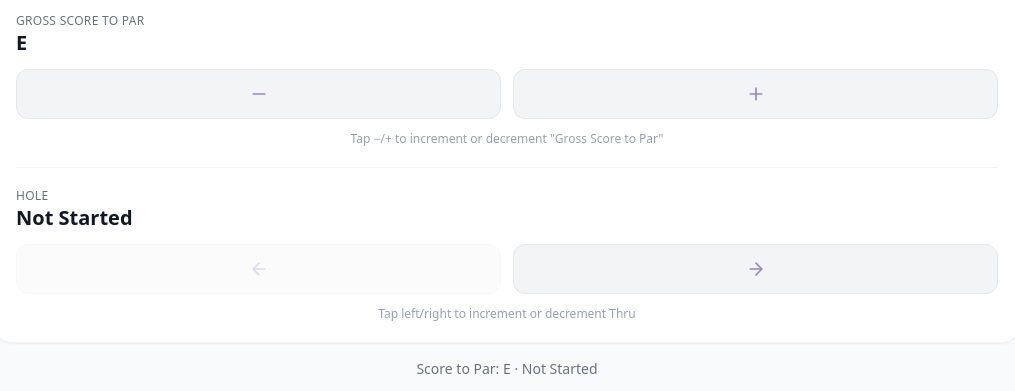
QuickScore › decrements score-to-par on - tap
The width and height of the screenshot is (1015, 391).
What coordinates should you click on to do the following:
click the 1st button
I would click on:
 (258, 94)
Its box is [16,69,501,119].
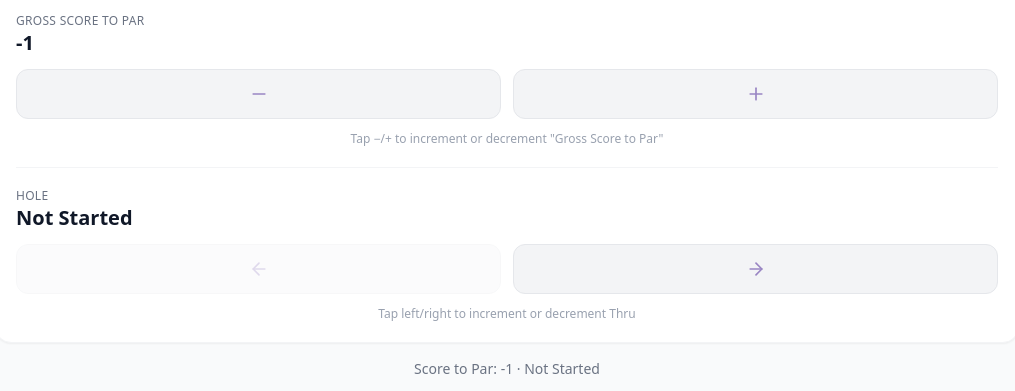
Result: the text "-1" is shown at [16,29,34,56]
